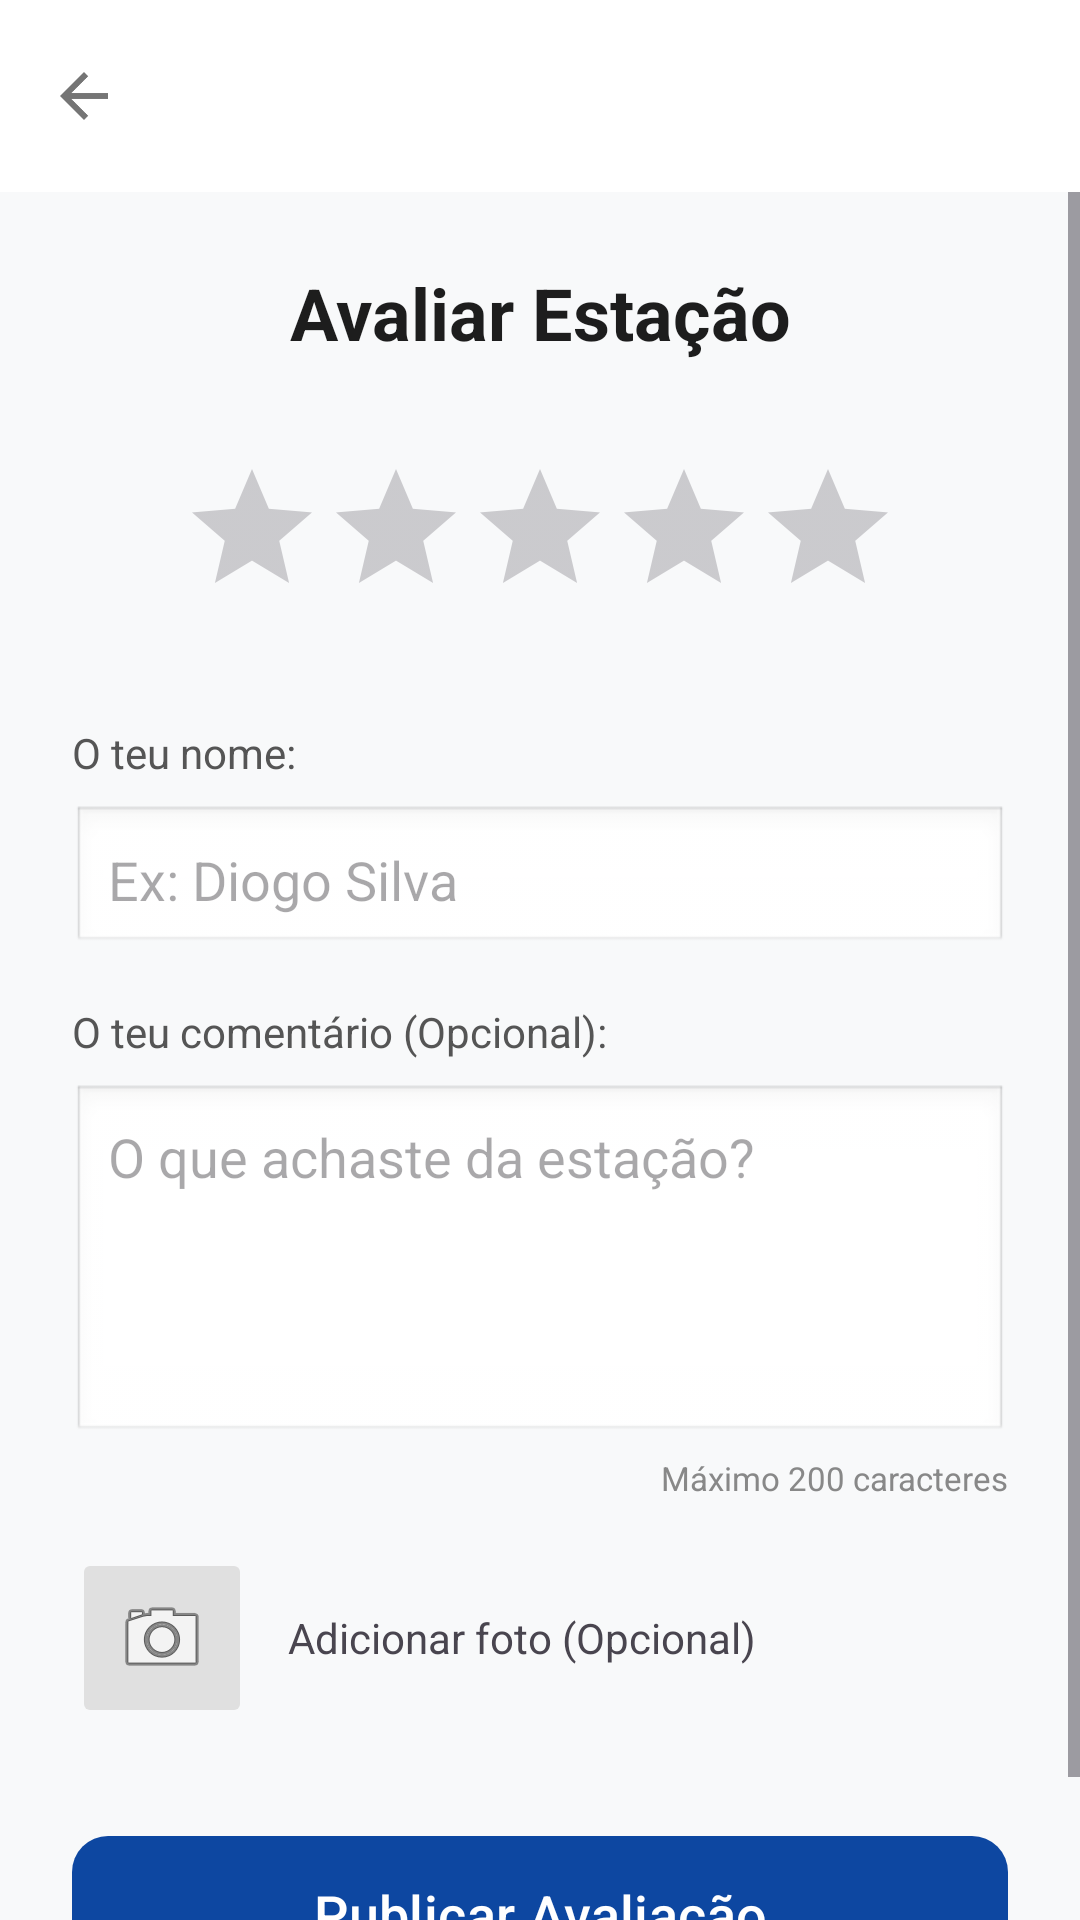

Screen size 1080*1920. Icon name, then its center in pixels as (x=x, y=y):
camera: (x=162, y=1638)
